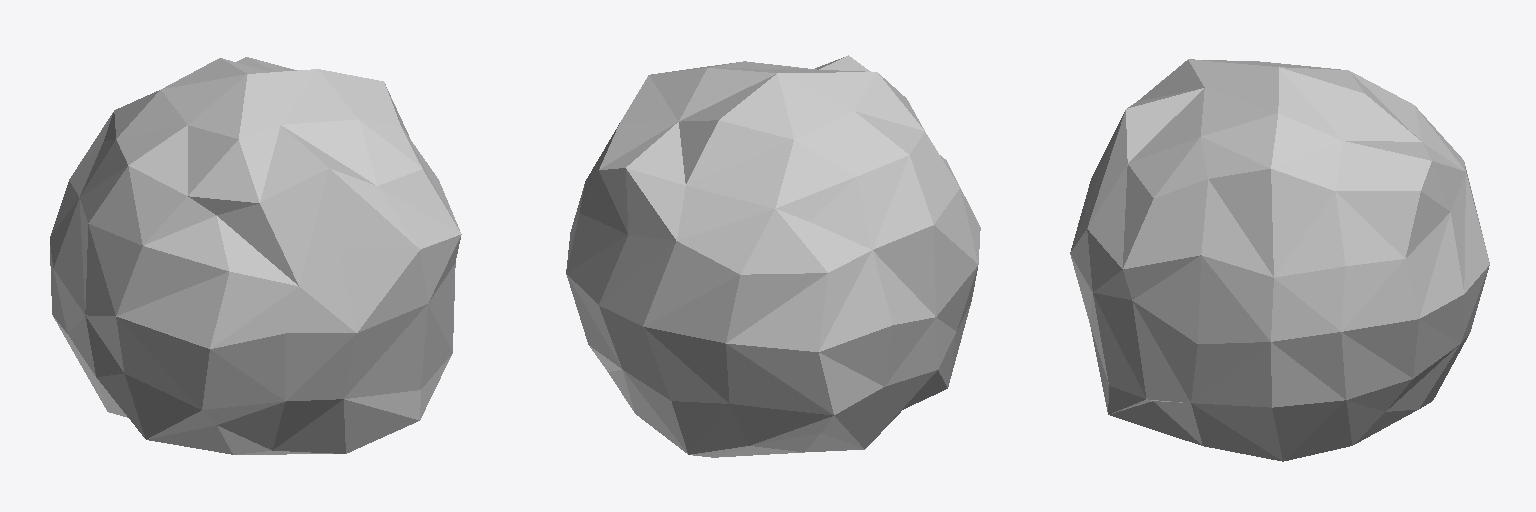
File: TreeLeaves1.obj
3 views of the same model, side by side, from view 1: azimuth 30°, elevation 25°; view 2: azimuth 150°, elevation 25°; view 3: azimuth 270°, elevation 25° (orthographic).
Parts seen in each view (by area): view 1: TreeLeaves1; view 2: TreeLeaves1; view 3: TreeLeaves1.
Boxes of the visible parts, x1,y1,x2,y2 form: TreeLeaves1: [50, 57, 461, 454]; TreeLeaves1: [566, 55, 980, 457]; TreeLeaves1: [1070, 59, 1489, 461].
Size of the model in its own units: 3.51 by 3.53 by 3.64.